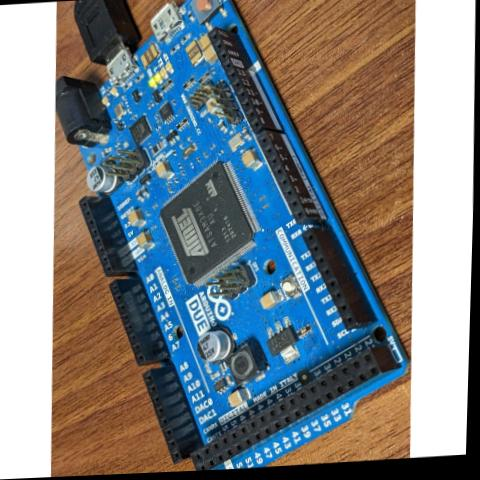Arduino-Due: (45, 0, 423, 478)
